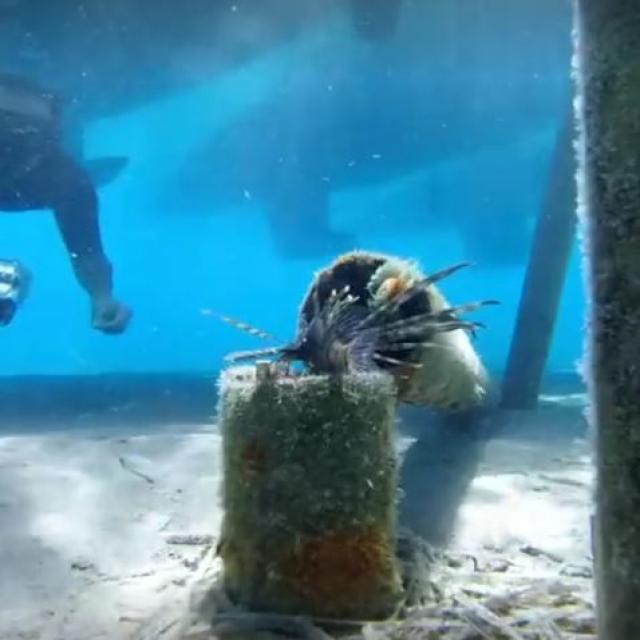Aslan Baligi: (199, 263, 515, 380)
